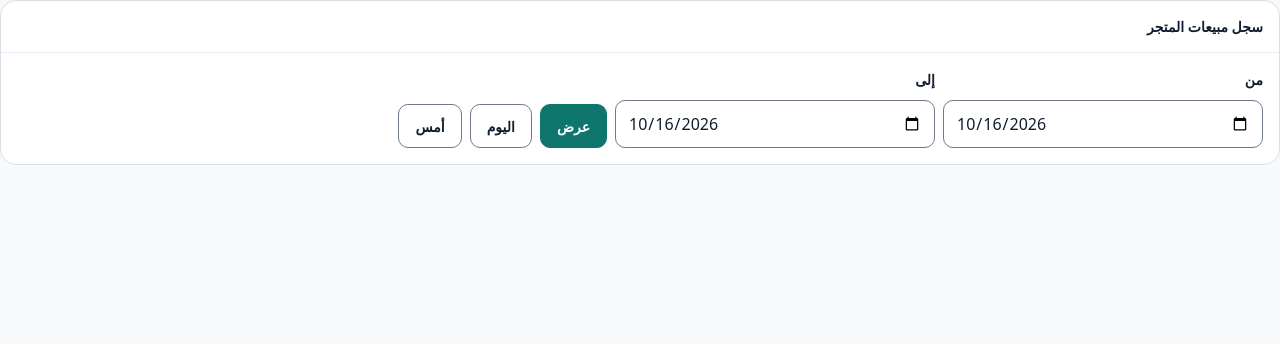
Test: RT-542 SalesHistory — states › asks for today’s Cairo business day and says what the server had received, never "complete"
The width and height of the screenshot is (1280, 344).
Step 1. Click the button "عرض" → (574,126), box [540,104,607,148]
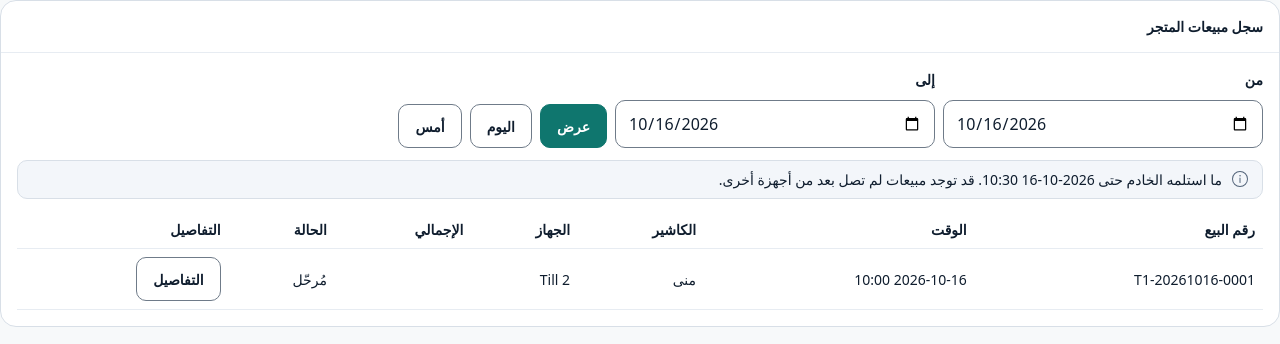
expect the table with test id "history-rows" shows "T1-20261016-0001": met, box [1134,270,1255,288]
